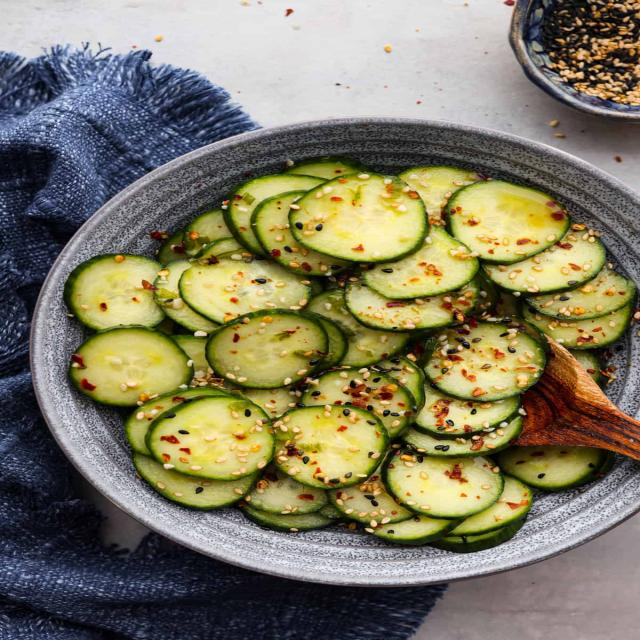Pickle: (289, 172, 429, 262), (146, 394, 274, 481), (444, 180, 570, 264), (204, 309, 330, 389), (69, 326, 193, 406), (272, 405, 390, 489), (424, 321, 547, 401), (178, 258, 311, 324), (482, 224, 605, 295), (362, 225, 480, 299), (251, 190, 352, 276), (382, 449, 504, 519), (382, 450, 504, 519), (307, 289, 410, 368), (225, 174, 324, 255), (300, 369, 416, 437), (64, 254, 165, 330), (133, 454, 260, 510), (345, 282, 480, 332), (240, 465, 337, 531), (525, 268, 637, 320), (495, 445, 615, 491), (414, 384, 519, 436), (523, 301, 633, 349), (401, 415, 523, 458), (397, 166, 485, 225), (429, 518, 525, 552), (365, 516, 463, 545)
